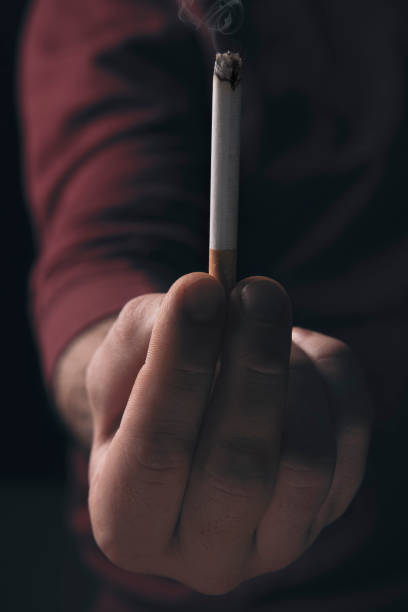cigarette: (206, 51, 243, 289)
